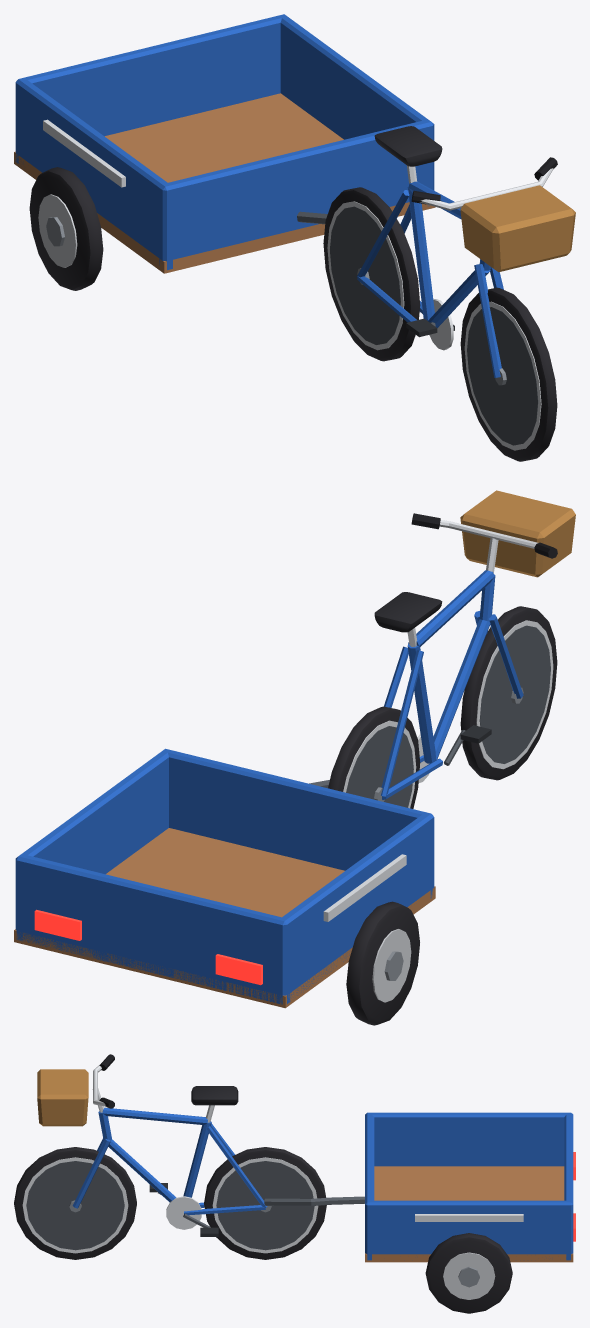
File: veh_bike.glb
3 renders of one model, top to bottom at view 1: azimuth 30°, elevation 25°; view 2: azimuth 150°, elevation 25°; view 3: azimuth 270°, elevation 25°, orthographic. The views are drawn at different scales.
Visible parts, largest first — view 1: Body, Wheel_F, Wheel_R, Wheel_CR; view 2: Body, Wheel_F, Wheel_CR, Wheel_R; view 3: Body, Wheel_F, Wheel_R, Wheel_CL.
Part boxes in pixels (left/top/right/bottom): Body: left=14, top=14, right=575, bottom=377; Wheel_F: left=460, top=287, right=557, bottom=461; Wheel_R: left=323, top=187, right=420, bottom=361; Wheel_CR: left=29, top=167, right=103, bottom=290; Body: left=14, top=490, right=575, bottom=1008; Wheel_F: left=460, top=606, right=557, bottom=780; Wheel_CR: left=346, top=901, right=419, bottom=1025; Wheel_R: left=328, top=706, right=420, bottom=808; Body: left=37, top=1054, right=575, bottom=1262; Wheel_F: left=14, top=1147, right=136, bottom=1259; Wheel_R: left=204, top=1147, right=326, bottom=1259; Wheel_CL: left=425, top=1233, right=512, bottom=1313.
Size of the model in its own units: 1.51 by 1.11 by 3.1.
